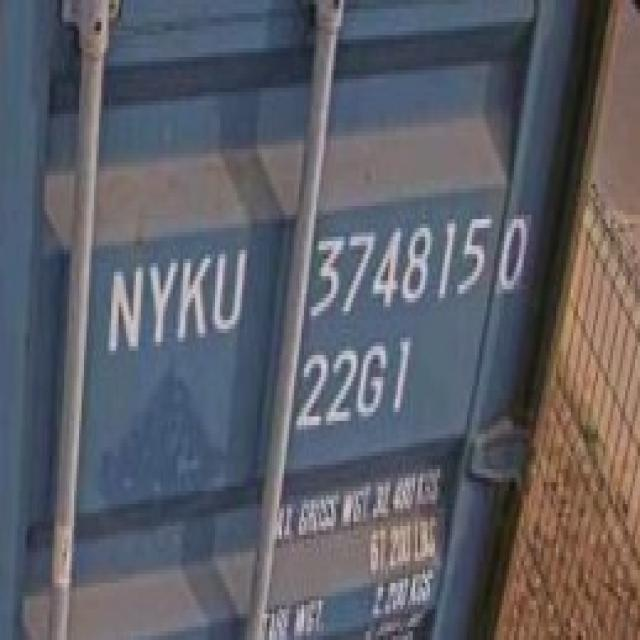dv: (495, 202, 536, 298)
owner: (101, 240, 256, 362)
serial: (308, 209, 492, 326)
size: (294, 327, 418, 439)
